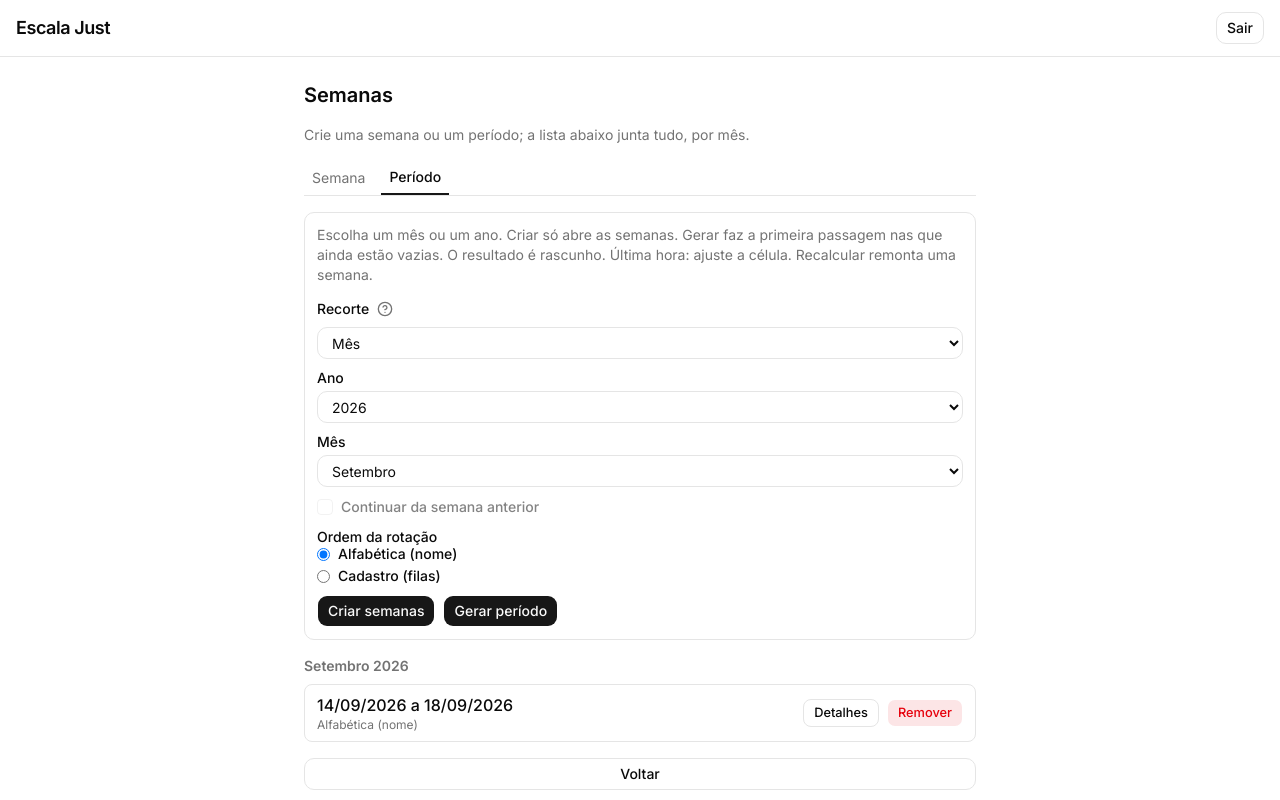
Test: guardas de rota › período não cria segunda segunda para a mesma dataInicio
Expected: the dropdown labelled "Recorte" is shown, [317,327,963,359]
Click the button "Criar semanas".
click(376, 611)  # box [317,595,436,627]
(page scrolled)
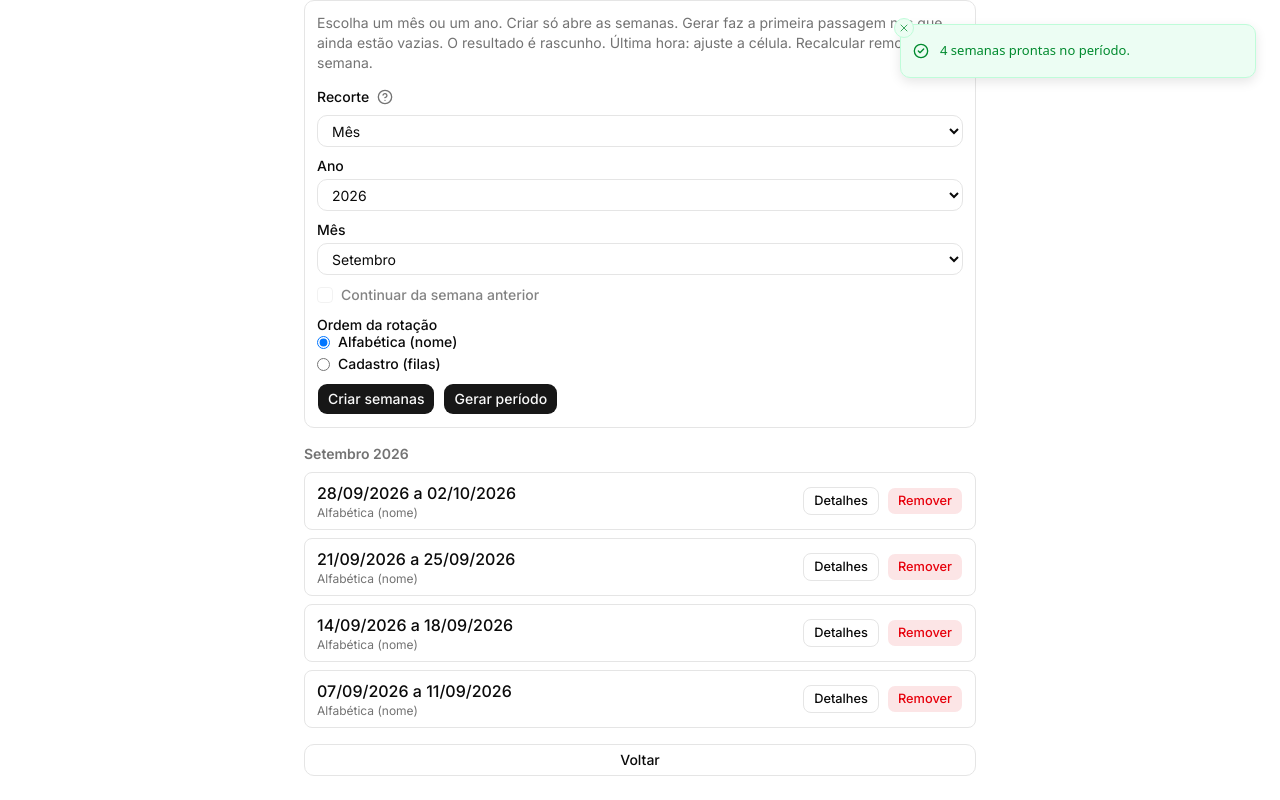
Expected: the text "4 semanas prontas no período." is shown, [940,41,1130,60]
Expected: the text "14/09/2026 a 18/09/2026" is shown once, [317,613,513,637]
Expected: the text "07/09/2026 a 11/09/2026" is shown, [317,679,512,703]
